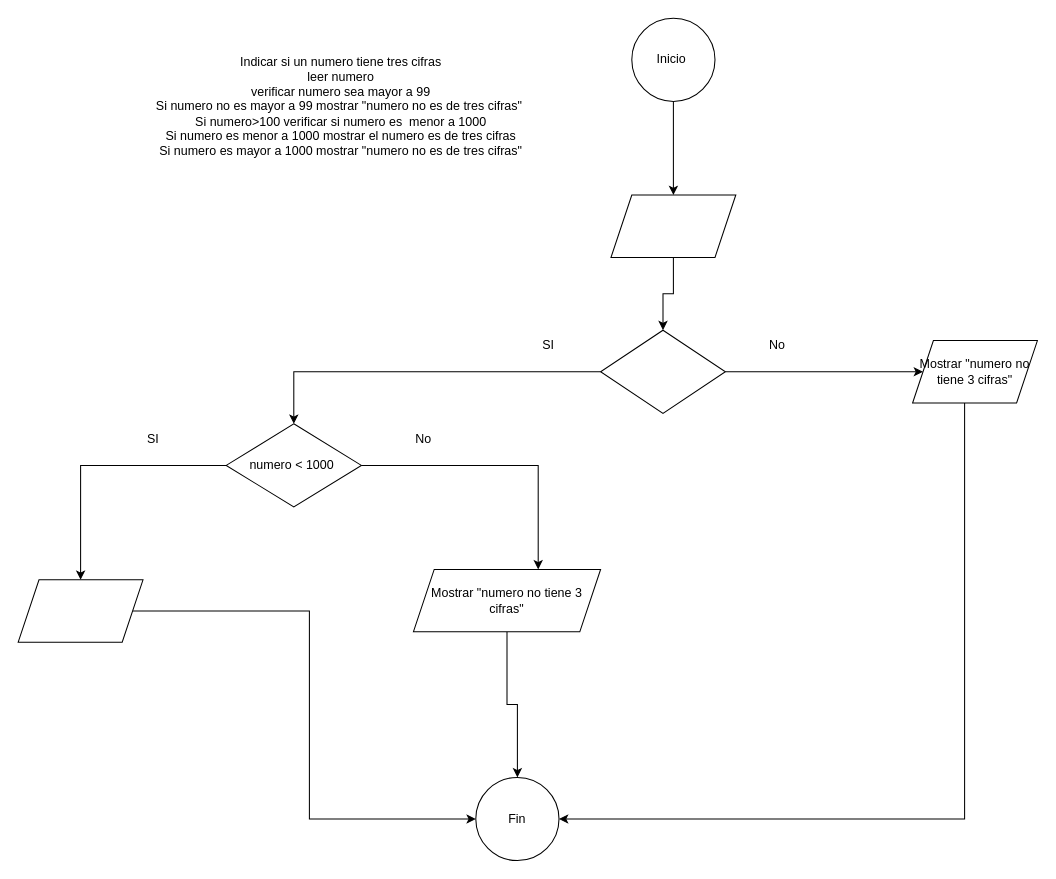
The diagram is 1056 pixels wide and 879 high, and some of its shapes have lost their labels. Each missing label, with the centre of its shape:
Leer numero: (x=673, y=225)
Mostrar "numero tiene 3 cifras": (x=80, y=610)
numero > 99: (x=662, y=371)
